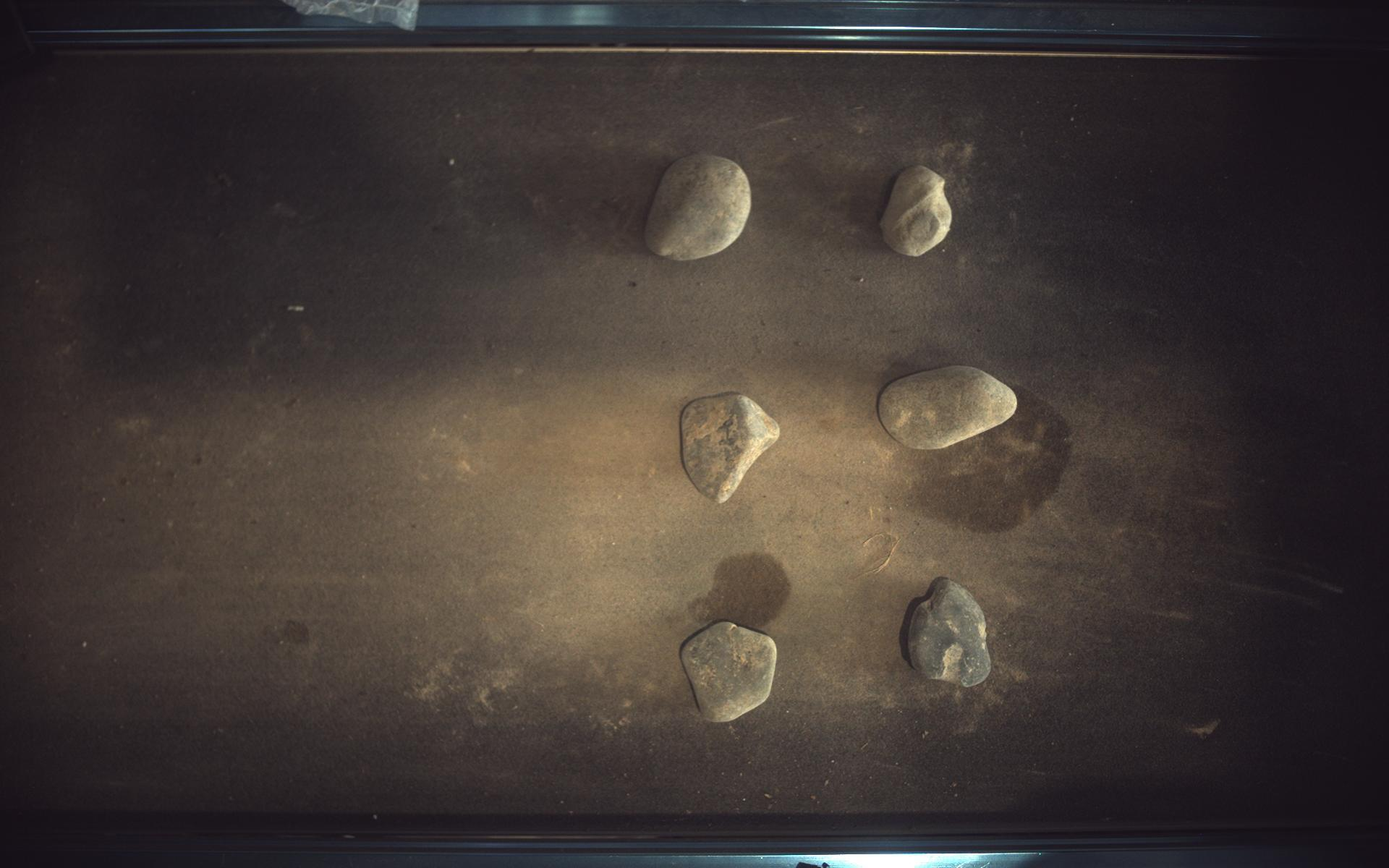stone: (880, 365, 1019, 450), (646, 153, 752, 260), (681, 393, 781, 503), (681, 622, 778, 723), (909, 578, 993, 688), (882, 165, 954, 256)
